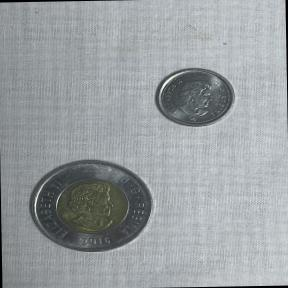Canada-10cent-B: (152, 61, 239, 131)
Canada-2Dollar-B: (23, 151, 159, 258)
